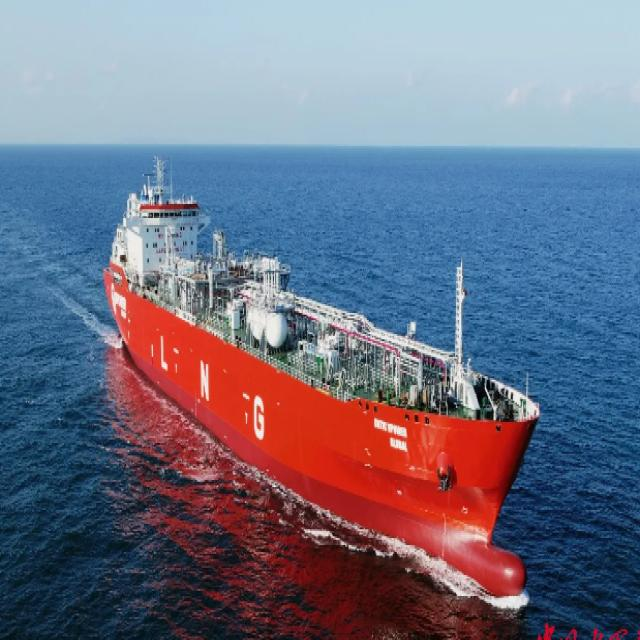cargoship: (105, 148, 537, 606)
